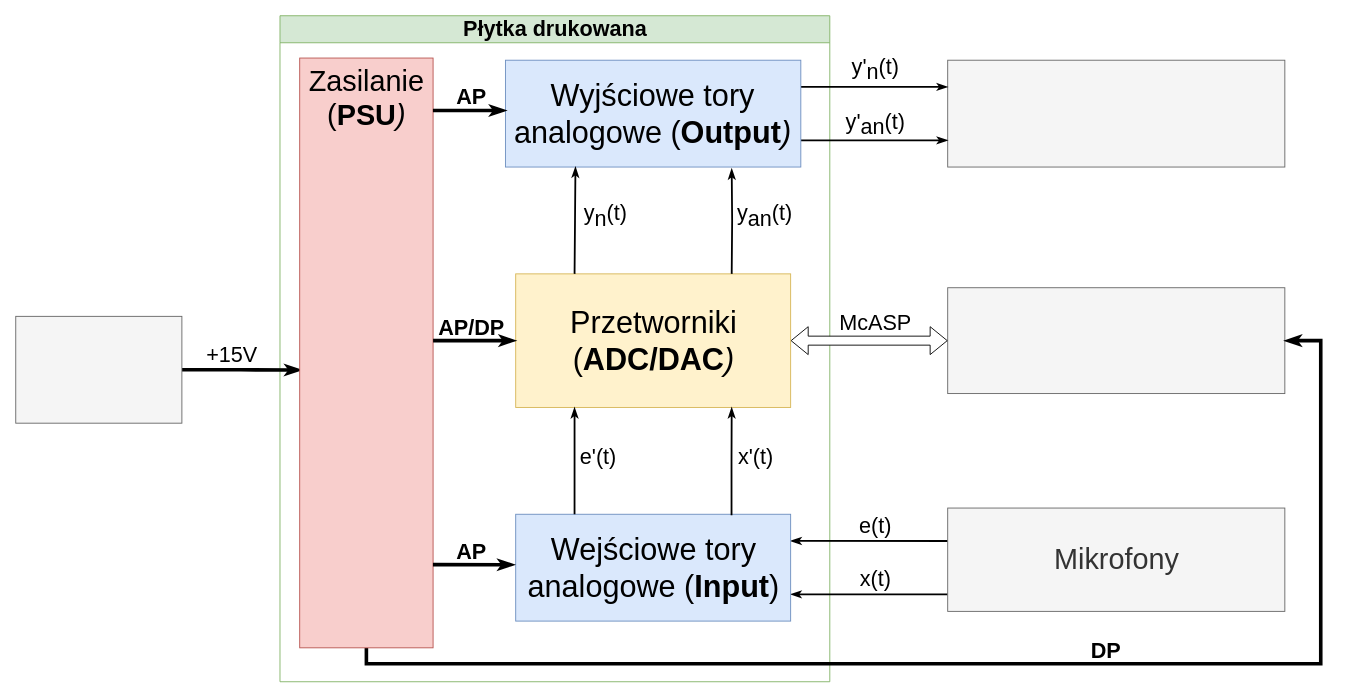
Image size: 1346x698. Some labels were removed from this diagram. The box of each missing label's shape, as (x1, y1, x2, y2) in pixels:
Głośniki: (947, 59, 1285, 167)
Linux PREEMPT_RT (Sitara AM3358): (947, 287, 1285, 394)
Zasilanie zawnętrzne: (15, 315, 182, 423)
